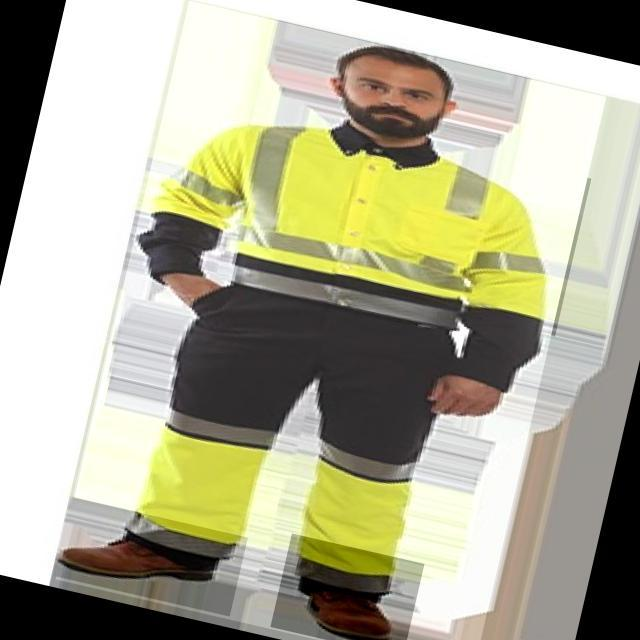Person: (29, 18, 620, 640)
Safety Boot: (53, 497, 248, 617), (269, 533, 423, 640)
Safety Vest: (195, 95, 592, 336)
bare-arms: (417, 363, 516, 433)
no-helmet: (329, 36, 453, 90)
